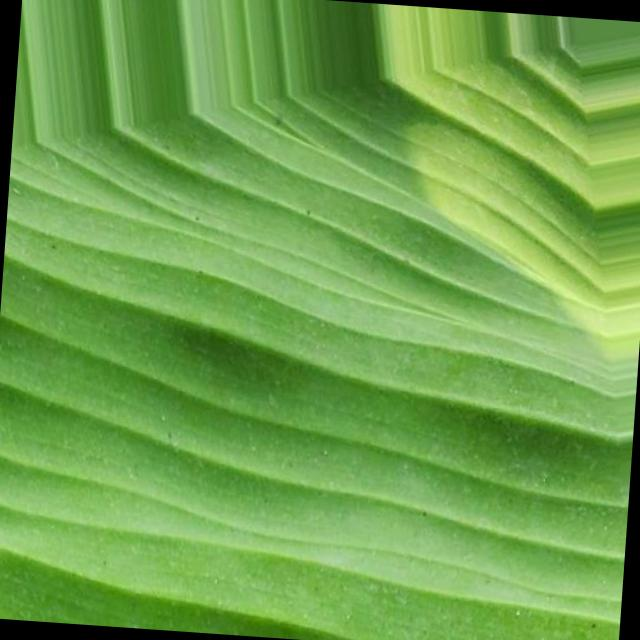Banana_Healthy: (100, 145, 610, 590)
